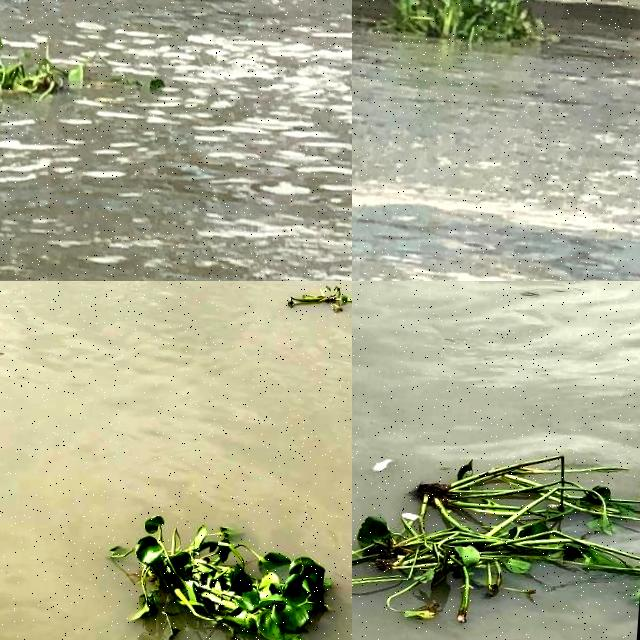water-hyacinth: (353, 415, 640, 640), (106, 514, 351, 640), (353, 1, 588, 74), (1, 18, 97, 105), (284, 282, 353, 320)
